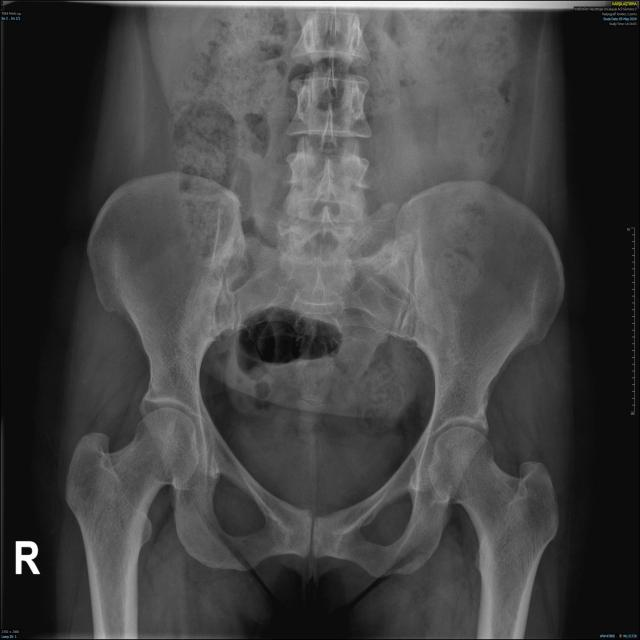normal-left: (428, 426, 559, 638)
normal-right: (65, 407, 199, 640)
